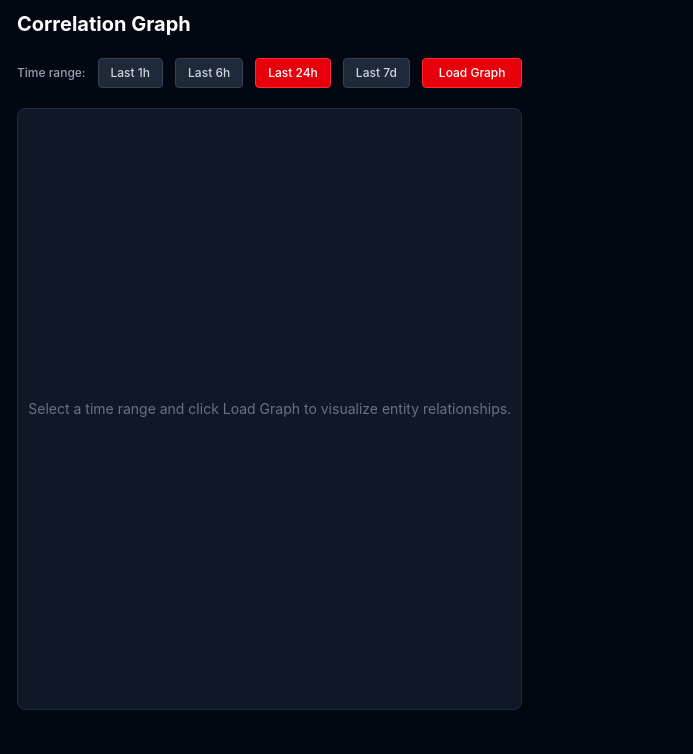
Test case: CorrelationPage › FR #13 — search input › clears the search term when the clear button is clicked
Click the button "Load Graph" at point(472, 73), box [422, 58, 522, 88]
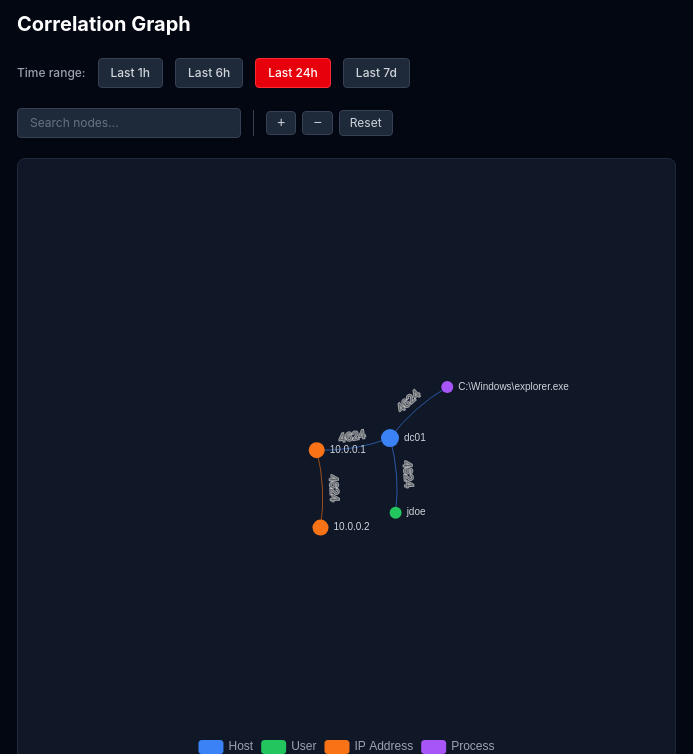
Expected: the search field named "search graph nodes" is shown
Type "dc01" into the search field named "search graph nodes" at point(129, 123), box [17, 108, 241, 138]
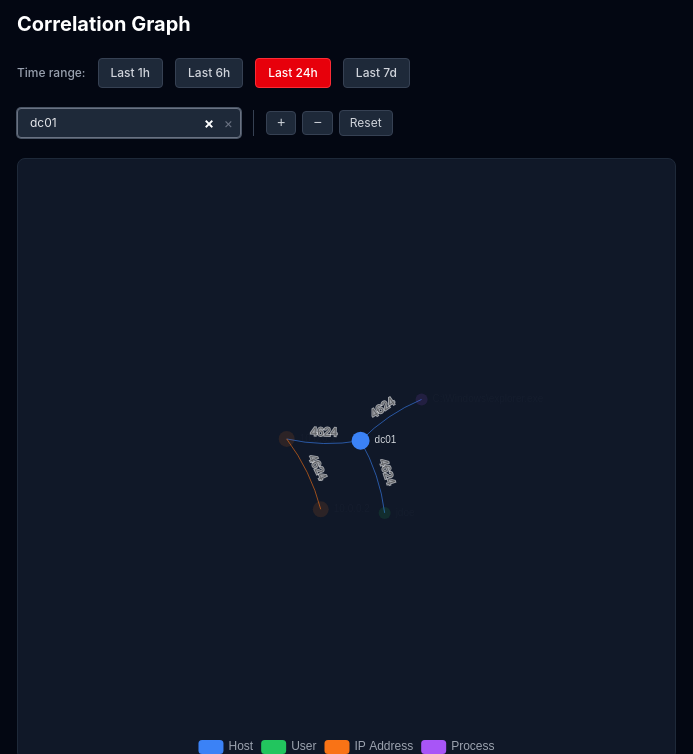
Click the button named "clear search" at point(228, 123), box [224, 116, 233, 130]
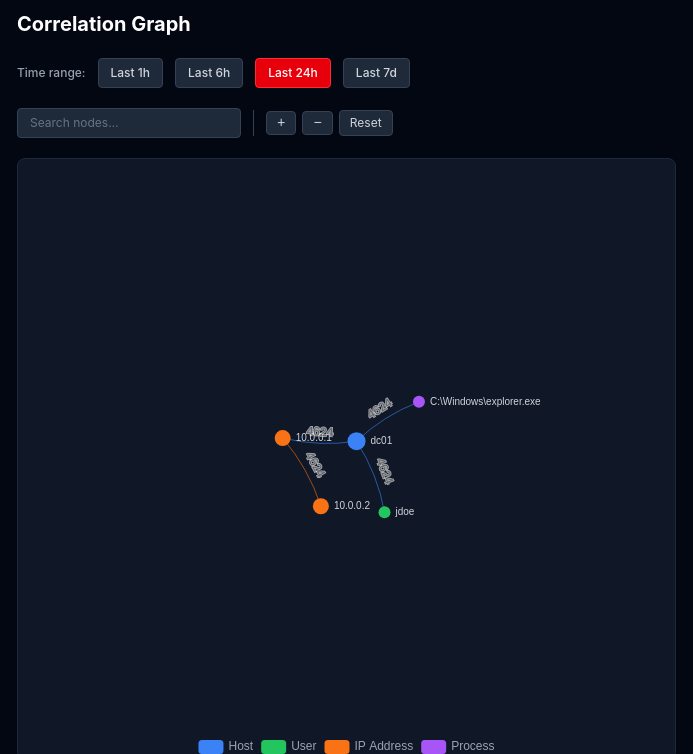
Expected: the search field named "search graph nodes" is empty, [17, 108, 241, 138]
